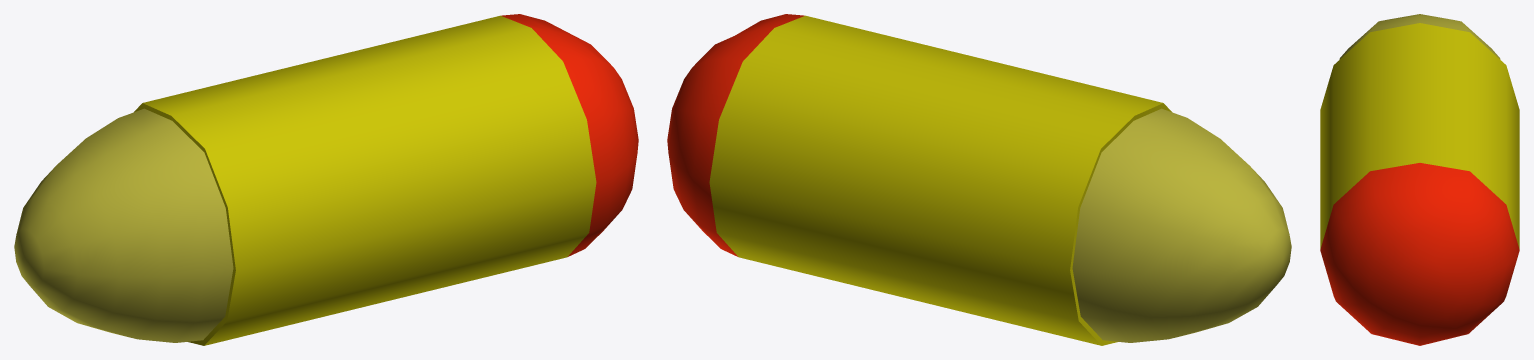
The model's file is Pill_Bullet.fbx.
3 renders of one model, left to right at view 1: azimuth 30°, elevation 25°; view 2: azimuth 150°, elevation 25°; view 3: azimuth 270°, elevation 25°, orthographic. The views are drawn at different scales.
Visible parts, largest first — view 1: Pill_ball; view 2: Pill_ball; view 3: Pill_ball.
Part boxes in pixels (left/top/right/bottom): Pill_ball: left=14, top=14, right=638, bottom=345; Pill_ball: left=667, top=14, right=1291, bottom=345; Pill_ball: left=1320, top=14, right=1519, bottom=345.
Bounding box in the file's own units: 231 × 82.31 × 84.05.
